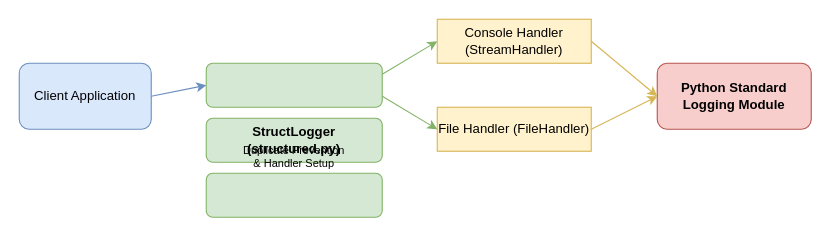
The diagram is 831 pixels wide and 237 high, and some of its shapes have lost their labels. Here are the shapes that lost their labels. From the top down, the centre of each, then its label:
At (x=293, y=84): "StandardLogger (std_log.py)".
At (x=293, y=194): "SeriLogger (serilog.py)".
